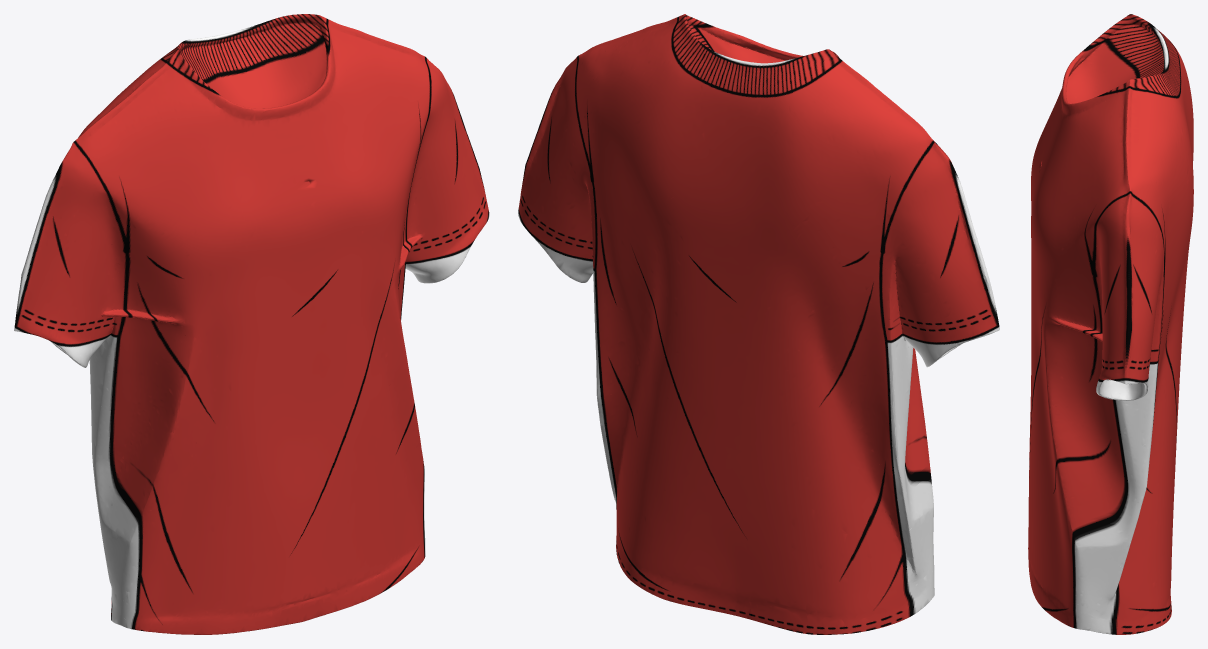
The model's file is UVMAPPED.glb.
The picture shows the model from 3 angles, left to right: view 1: azimuth 30°, elevation 25°; view 2: azimuth 150°, elevation 25°; view 3: azimuth 270°, elevation 25°; orthographic projection. The views are drawn at different scales.
Visible parts, largest first — view 1: model; view 2: model; view 3: model.
Part boxes in pixels (x1,y1,x2,y2): model: (14, 14, 489, 634); model: (518, 14, 999, 634); model: (1028, 14, 1193, 634).
Bounding box in the file's own units: 0.6177 × 0.7 × 0.1962.
Materials: 1 (1 with a texture image).
